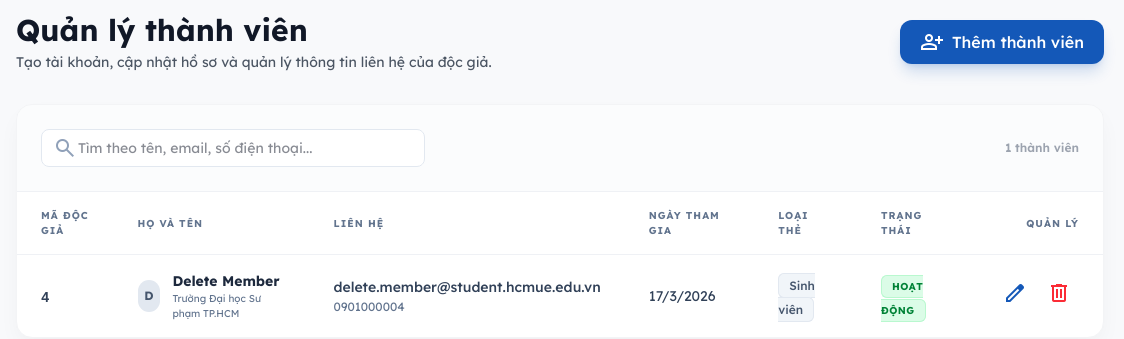
Test: AdminMembers › deletes a member after confirmation
Expected: the text "Delete Member" is shown, x1=172 y1=271 x2=286 y2=291
Step 1. Click the button named "Xóa Delete Member" → (1059,296), box x1=1039 y1=273 x2=1079 y2=319
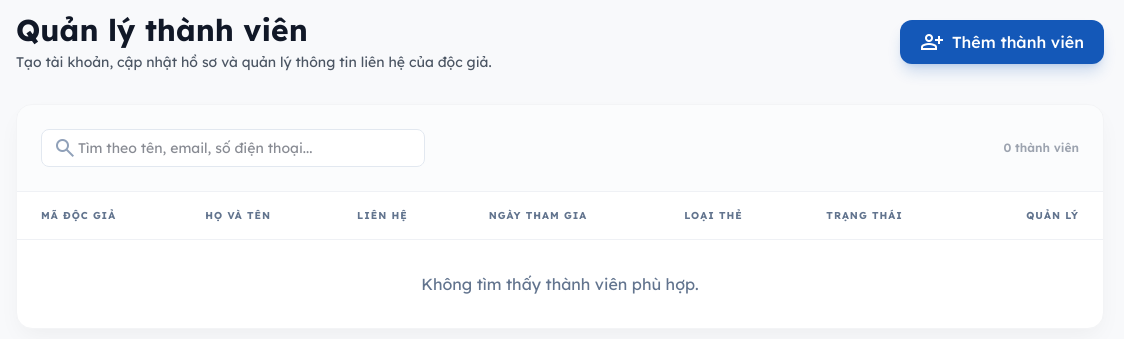
Expected: the text "Delete Member" is gone
